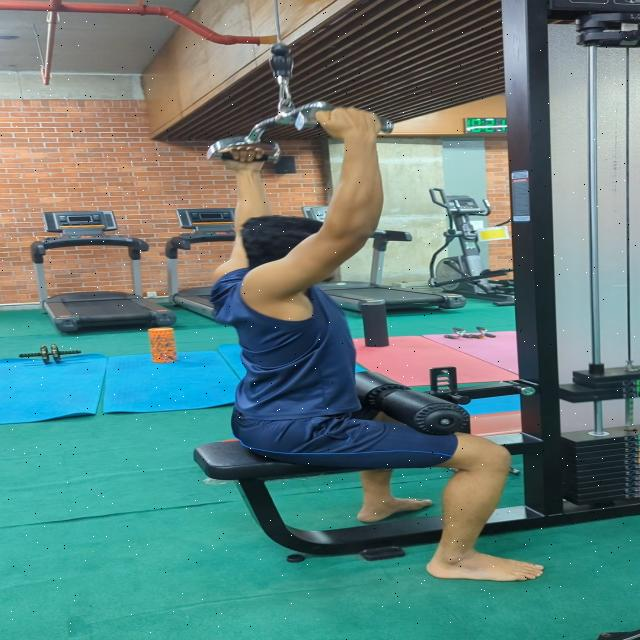Normal_LatPulldown: (187, 95, 563, 590)
